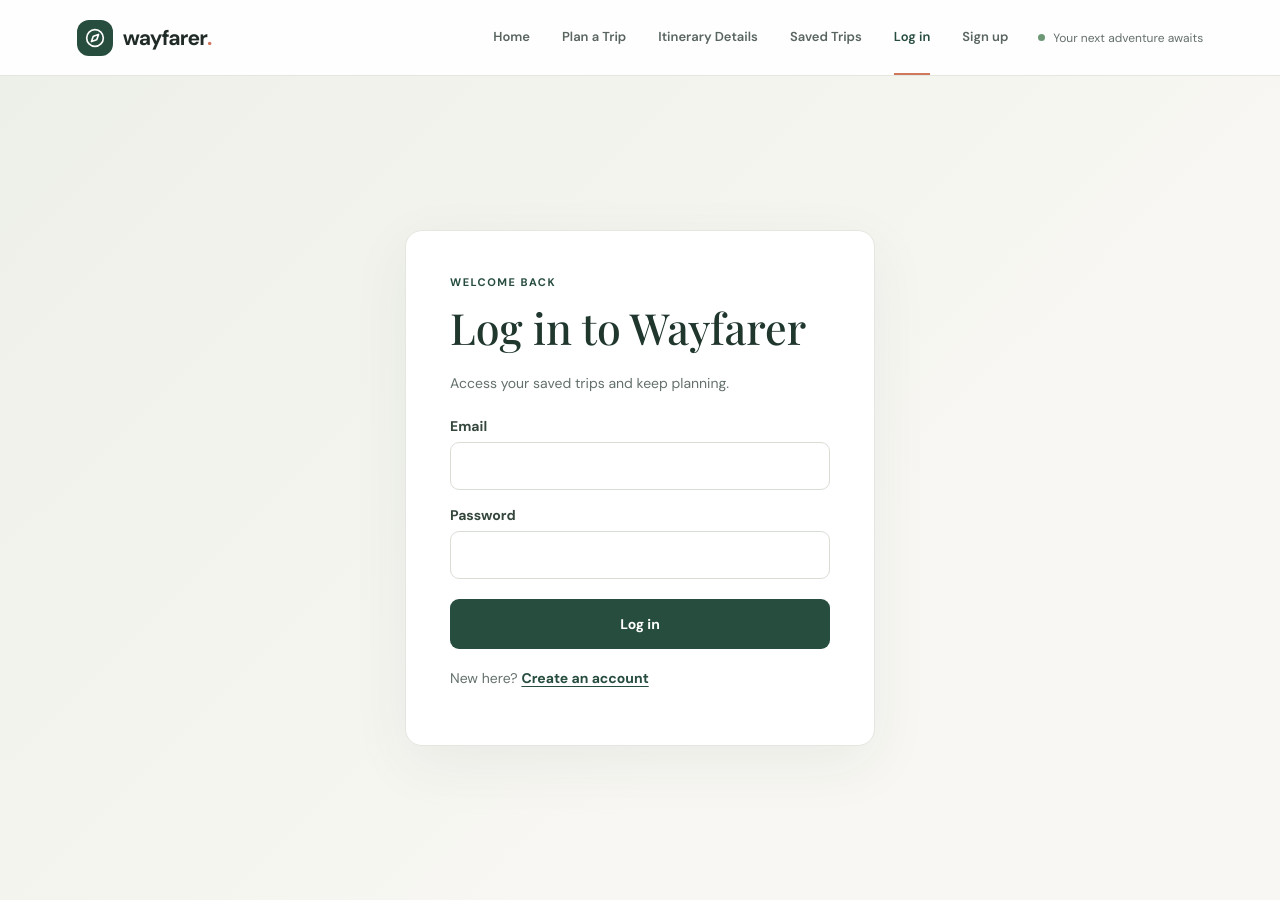
Scenario: account-backed journeys with an isolated API test double › logs in and waits for the saved trips response
In the field labelled "Email": (640, 466) [450,442,830,490], type "traveller@example.test"
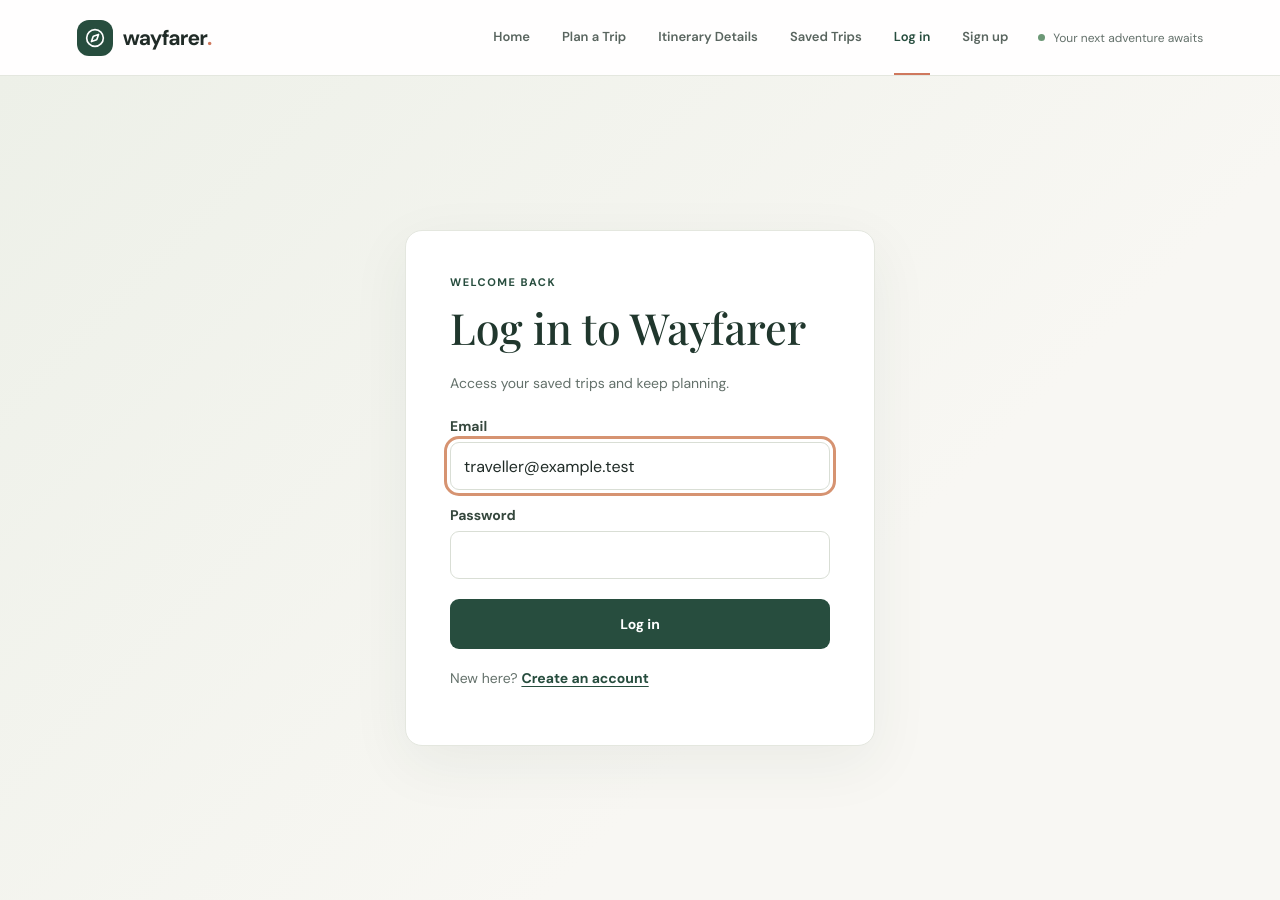
In the password field labelled "Password": (640, 555) [450,531,830,579], type "test-password"
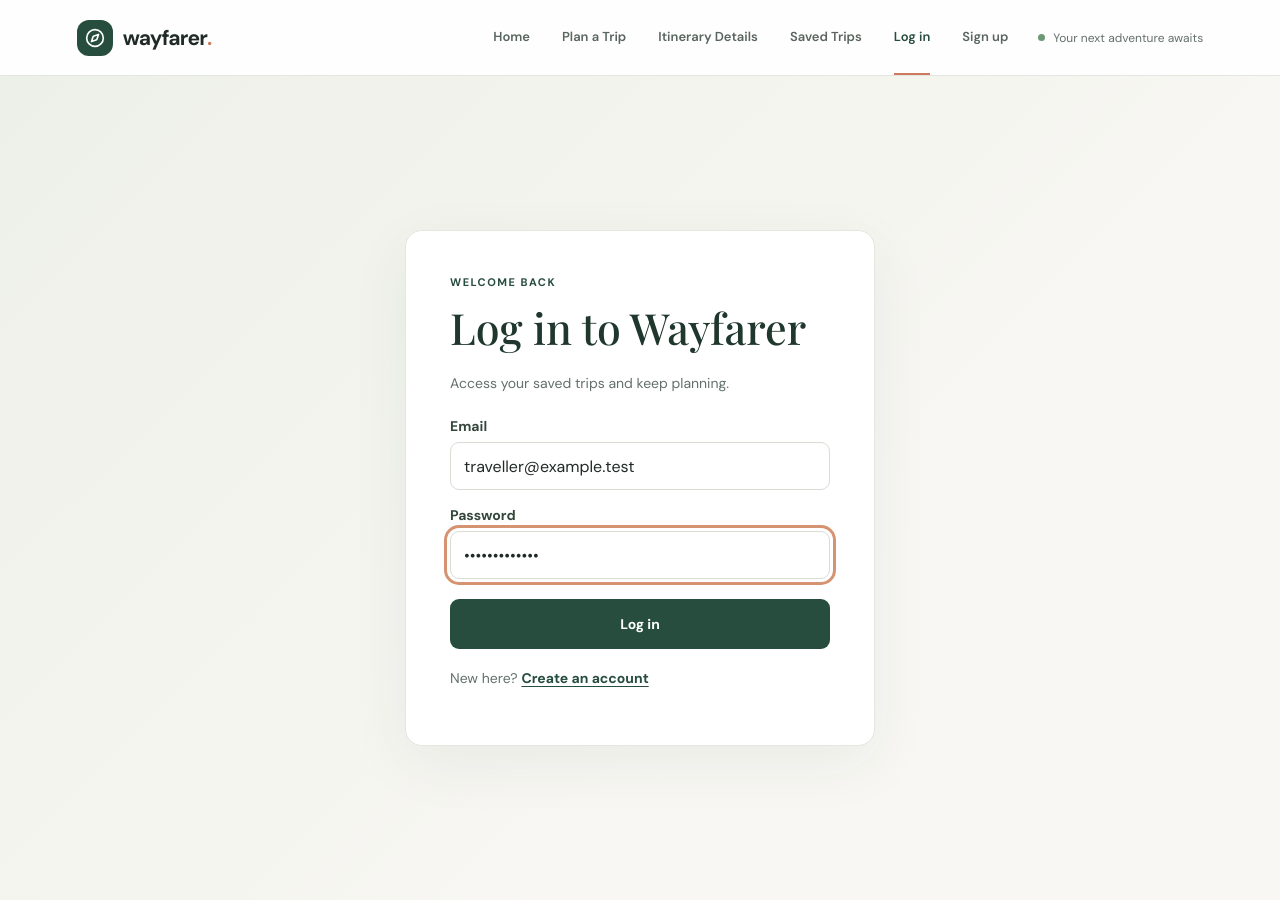
Click the button "Log in": (640, 624) [450,599,830,649]
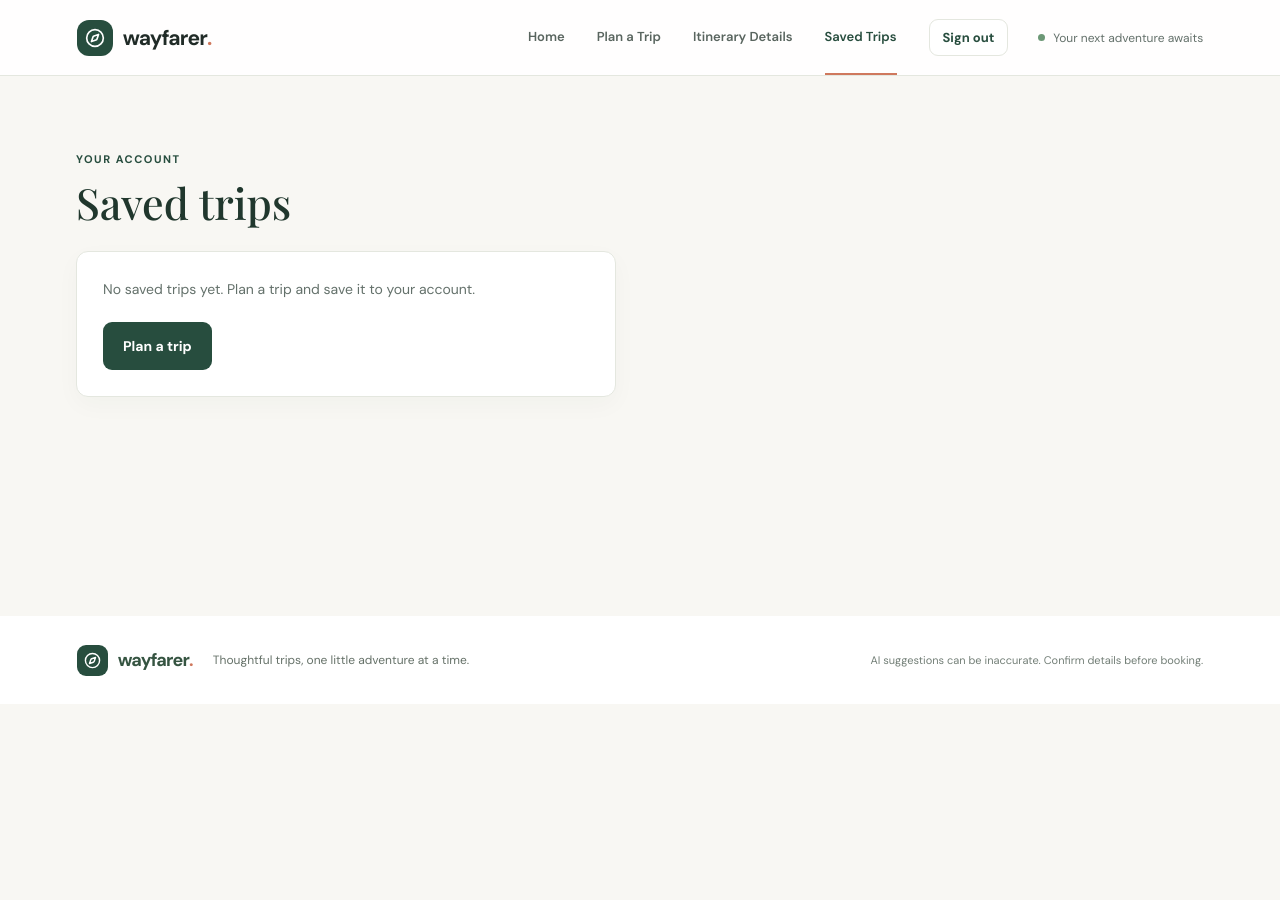
expect the text "No saved trips yet. Plan a trip and save it to your account." is shown: met, box [103,280,475,298]
